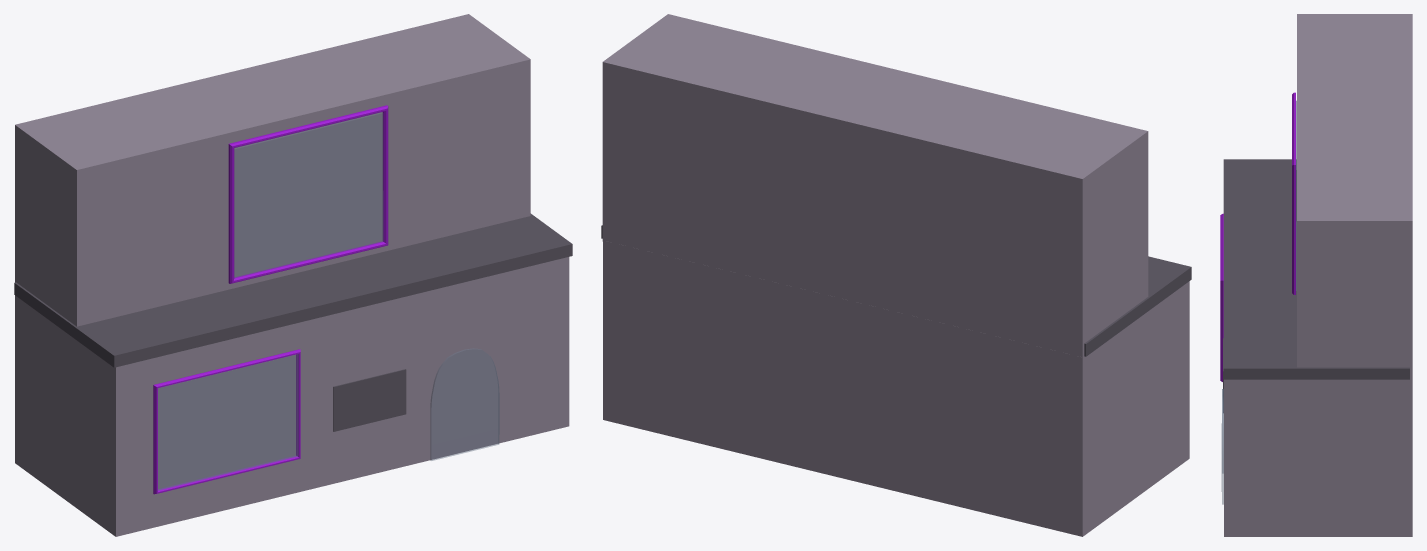
File: LongBasicBuilding.fbx
3 views of the same model, side by side, from view 1: azimuth 30°, elevation 25°; view 2: azimuth 150°, elevation 25°; view 3: azimuth 270°, elevation 25° (orthographic). The views are drawn at different scales.
Visible parts, largest first — view 1: group79_pasted__group65_pasted__pasted__pCube2, group79_pasted__group50_pasted__pasted__group47_pasted__past, pasted__pCube26, pasted__pasted__pasted__pasted__pasted__pasted__pCube15, group79_pasted__group66_pasted__pasted__pCube23, pasted__pCube27; view 2: group79_pasted__group65_pasted__pasted__pCube2, pasted__pCube26; view 3: group79_pasted__group65_pasted__pasted__pCube2, pasted__pCube26, group79_pasted__group66_pasted__pasted__pCube23, pasted__pasted__pasted__pasted__pasted__pasted__pCube15.
Part boxes in pixels (left/top/right/bottom): group79_pasted__group65_pasted__pasted__pCube2: left=15, top=14, right=569, bottom=536; group79_pasted__group50_pasted__pasted__group47_pasted__past: left=158, top=112, right=383, bottom=490; pasted__pCube26: left=14, top=213, right=572, bottom=367; pasted__pasted__pasted__pasted__pasted__pasted__pCube15: left=430, top=348, right=499, bottom=460; group79_pasted__group66_pasted__pasted__pCube23: left=153, top=105, right=388, bottom=494; pasted__pCube27: left=333, top=369, right=406, bottom=431; group79_pasted__group65_pasted__pasted__pCube2: left=602, top=14, right=1189, bottom=536; pasted__pCube26: left=601, top=225, right=1191, bottom=356; group79_pasted__group65_pasted__pasted__pCube2: left=1224, top=14, right=1412, bottom=536; pasted__pCube26: left=1223, top=159, right=1409, bottom=379; group79_pasted__group66_pasted__pasted__pCube23: left=1220, top=92, right=1295, bottom=381; pasted__pasted__pasted__pasted__pasted__pasted__pCube15: left=1221, top=389, right=1223, bottom=504.
Size of the model in its own units: 10.41 by 7.35 by 4.05.
